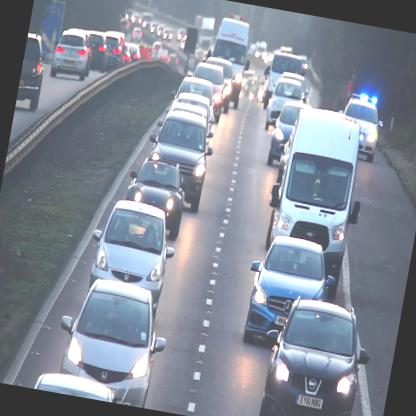car: (47, 272, 176, 410), (250, 290, 378, 415), (237, 232, 343, 358), (79, 195, 181, 320), (137, 105, 218, 216), (121, 154, 190, 240), (334, 94, 387, 165), (14, 31, 50, 114), (262, 76, 308, 135), (184, 61, 228, 121), (48, 26, 93, 84), (198, 56, 236, 112), (84, 31, 111, 74), (99, 30, 128, 68)
truck: (263, 106, 366, 282), (204, 19, 252, 108)
